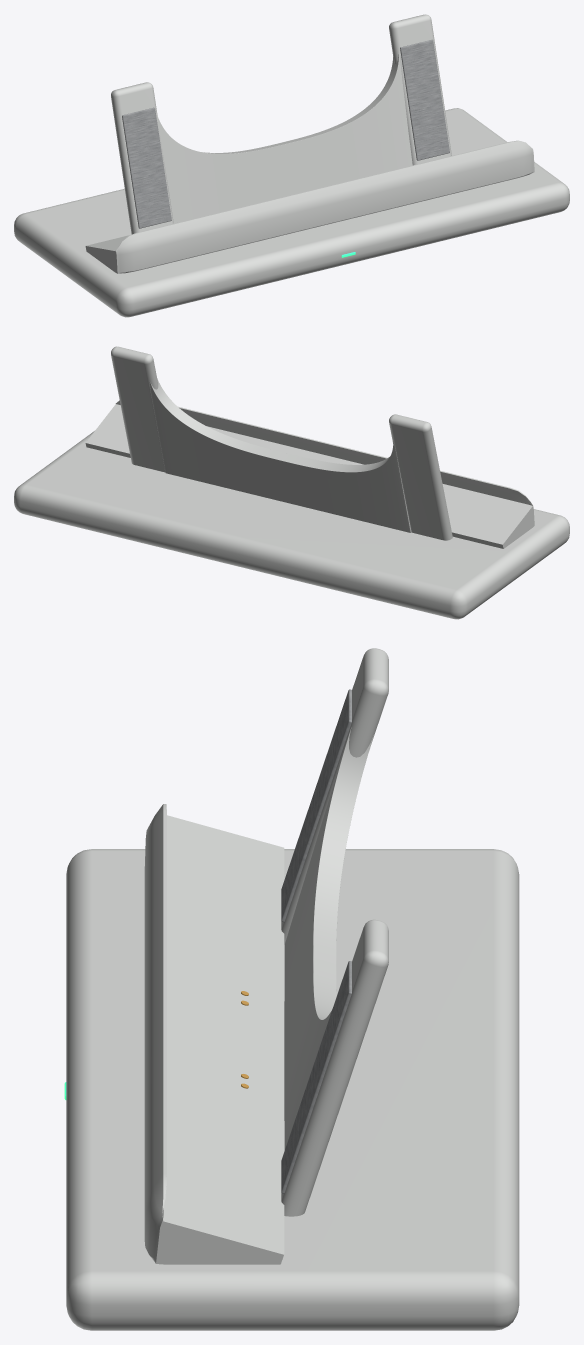
The model's file is dock-station.glb.
3 views of the same model, one above another, from view 1: azimuth 30°, elevation 25°; view 2: azimuth 150°, elevation 25°; view 3: azimuth 270°, elevation 25° (orthographic). The views are drawn at different scales.
Visible parts, largest first — view 1: dock_base, dock_cradle_bed, dock_rear_bridge, dock_right_rear_cushion, dock_left_rear_cushion, dock_left_rear_support, dock_right_rear_support; view 2: dock_base, dock_rear_bridge, dock_cradle_bed, dock_left_rear_support, dock_right_rear_support; view 3: dock_base, dock_cradle_bed, dock_rear_bridge, dock_right_rear_support, dock_left_rear_support, dock_left_rear_cushion, dock_right_rear_cushion.
Boxes of the visible parts, bbox=[...] form: dock_base: bbox=[14, 108, 569, 317]; dock_cradle_bed: bbox=[85, 140, 534, 273]; dock_rear_bridge: bbox=[155, 51, 412, 223]; dock_right_rear_cushion: bbox=[400, 39, 449, 160]; dock_left_rear_cushion: bbox=[122, 107, 171, 228]; dock_left_rear_support: bbox=[111, 82, 173, 234]; dock_right_rear_support: bbox=[389, 14, 451, 165]; dock_base: bbox=[14, 431, 569, 619]; dock_rear_bridge: bbox=[149, 379, 411, 532]; dock_cradle_bed: bbox=[85, 400, 534, 548]; dock_left_rear_support: bbox=[389, 414, 452, 540]; dock_right_rear_support: bbox=[111, 346, 165, 472]; dock_base: bbox=[66, 849, 519, 1330]; dock_cradle_bed: bbox=[144, 804, 284, 1264]; dock_rear_bridge: bbox=[284, 727, 374, 1149]; dock_right_rear_support: bbox=[281, 919, 388, 1216]; dock_left_rear_support: bbox=[281, 648, 388, 944]; dock_left_rear_cushion: bbox=[281, 689, 351, 922]; dock_right_rear_cushion: bbox=[281, 961, 351, 1193].
Size of the model in its own units: 0.1545 by 0.0521 by 0.0672.
Materials: 6 (1 with a texture image).
